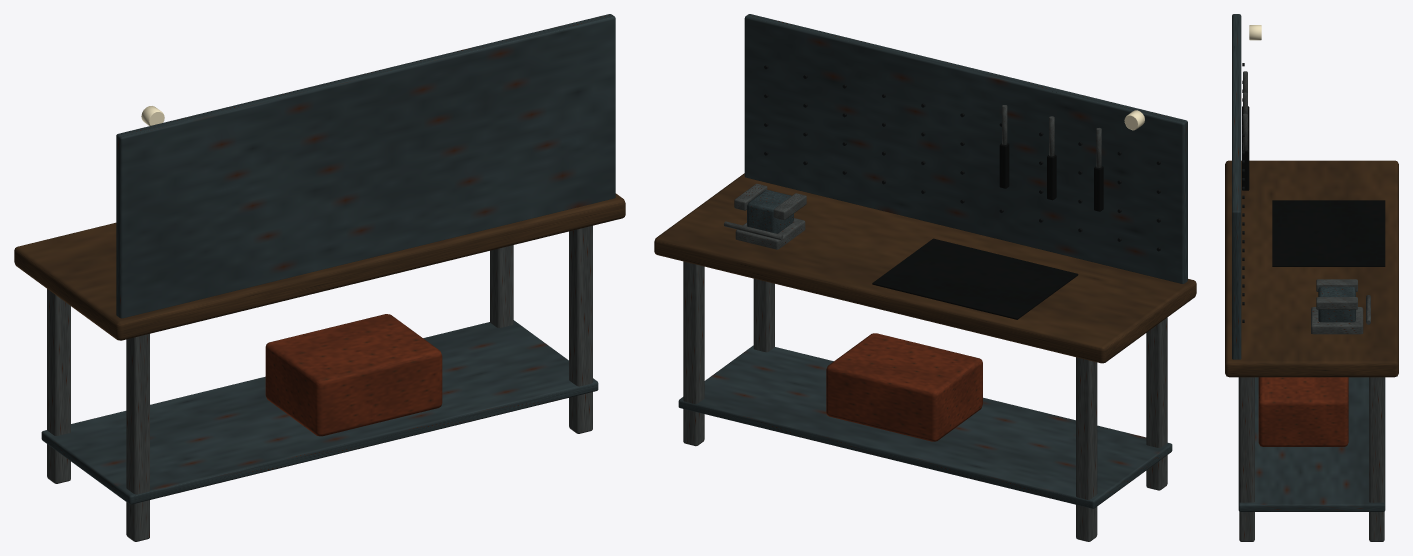
Rendered from workbench.glb.
3 renders of one model, left to right at view 1: azimuth 30°, elevation 25°; view 2: azimuth 150°, elevation 25°; view 3: azimuth 270°, elevation 25°, orthographic. The views are drawn at different scales.
Parts seen in each view (by area): view 1: body_slate, body_wood, body_oxide, body_steel; view 2: body_slate, body_wood, body_steel, body_oxide, body_rubber, body_darksteel; view 3: body_wood, body_slate, body_rubber, body_steel, body_oxide, body_darksteel.
Boxes of the visible parts, bbox=[...] form: body_slate: bbox=[41, 14, 615, 504]; body_wood: bbox=[14, 193, 625, 340]; body_oxide: bbox=[265, 314, 442, 436]; body_steel: bbox=[47, 225, 592, 541]; body_slate: bbox=[678, 14, 1187, 508]; body_wood: bbox=[654, 173, 1196, 363]; body_steel: bbox=[683, 105, 1167, 541]; body_oxide: bbox=[826, 333, 982, 441]; body_rubber: bbox=[872, 143, 1103, 319]; body_darksteel: bbox=[764, 65, 1160, 251]; body_wood: bbox=[1225, 160, 1398, 377]; body_slate: bbox=[1232, 14, 1385, 511]; body_rubber: bbox=[1242, 106, 1385, 266]; body_steel: bbox=[1239, 71, 1384, 541]; body_oxide: bbox=[1258, 377, 1348, 446]; body_darksteel: bbox=[1242, 63, 1244, 322].
Size of the model in its own units: 2.3 by 1.82 by 0.83.
Materials: 7 (6 with a texture image).
